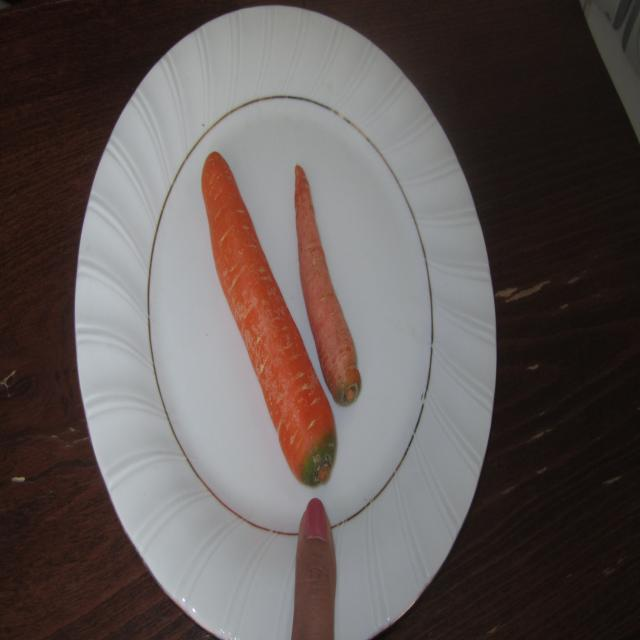carrot: (188, 147, 412, 490)
